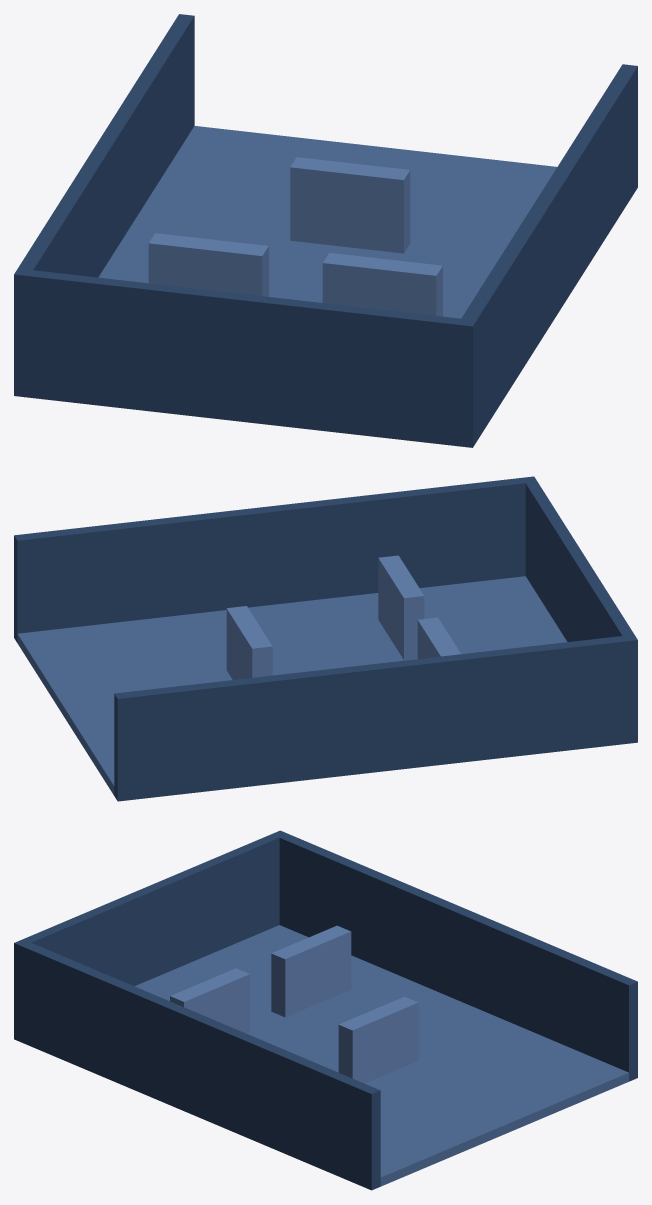
The model's file is arena_02.glb.
The picture shows the model from 3 angles, top to bottom: view 1: azimuth 30°, elevation 25°; view 2: azimuth 150°, elevation 25°; view 3: azimuth 270°, elevation 25°; orthographic projection. The views are drawn at different scales.
Parts seen in each view (by area): view 1: arena; view 2: arena; view 3: arena.
Part boxes in pixels (x1,y1,x2,y2): arena: [14, 14, 637, 447]; arena: [14, 476, 637, 801]; arena: [14, 830, 637, 1190].
Bounding box in the file's own units: 15.56 × 2.65 × 15.56.
